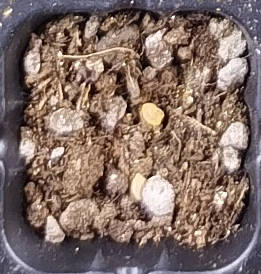pepper seed: (57, 37, 223, 164)
